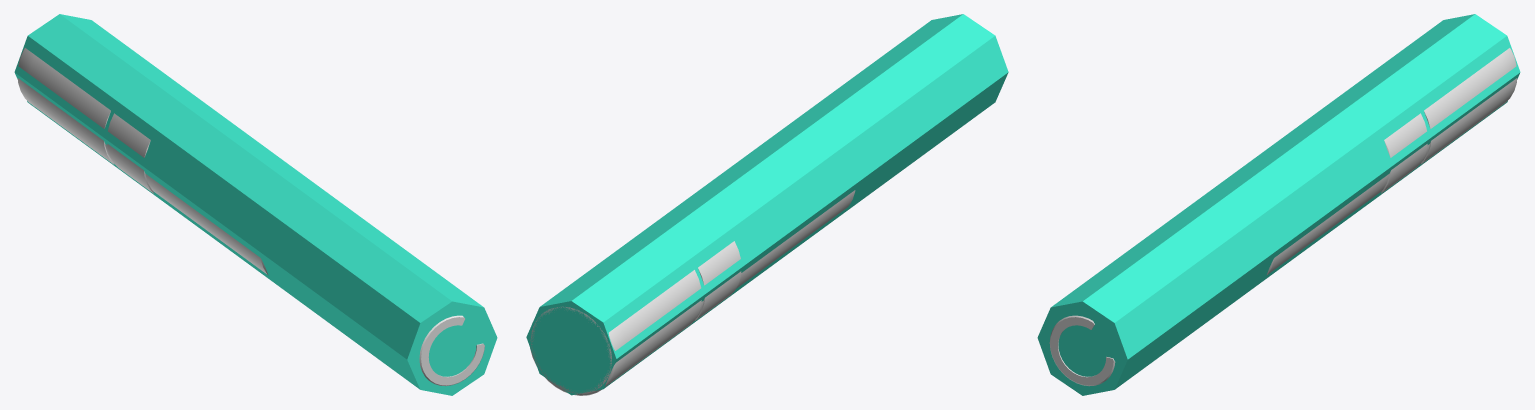
File: BC_Mosin_Suppressor.fbx
3 views of the same model, side by side, from view 1: azimuth 30°, elevation 25°; view 2: azimuth 150°, elevation 25°; view 3: azimuth 330°, elevation 25° (orthographic).
Visible parts, largest first — view 1: UCL_Mosin_Suppressor, bramit_mosin_suppressor_LOD0; view 2: UCL_Mosin_Suppressor, bramit_mosin_suppressor_LOD0; view 3: UCL_Mosin_Suppressor, bramit_mosin_suppressor_LOD0.
Part boxes in pixels (box(x1,y1,x2,y2)): UCL_Mosin_Suppressor: box(14, 14, 497, 395); bramit_mosin_suppressor_LOD0: box(17, 48, 484, 386); UCL_Mosin_Suppressor: box(526, 14, 1008, 395); bramit_mosin_suppressor_LOD0: box(530, 190, 855, 395); UCL_Mosin_Suppressor: box(1037, 14, 1520, 395); bramit_mosin_suppressor_LOD0: box(1049, 48, 1517, 386).
Size of what is drawn, in the model's own units: 3.18 by 3.2 by 24.01.
